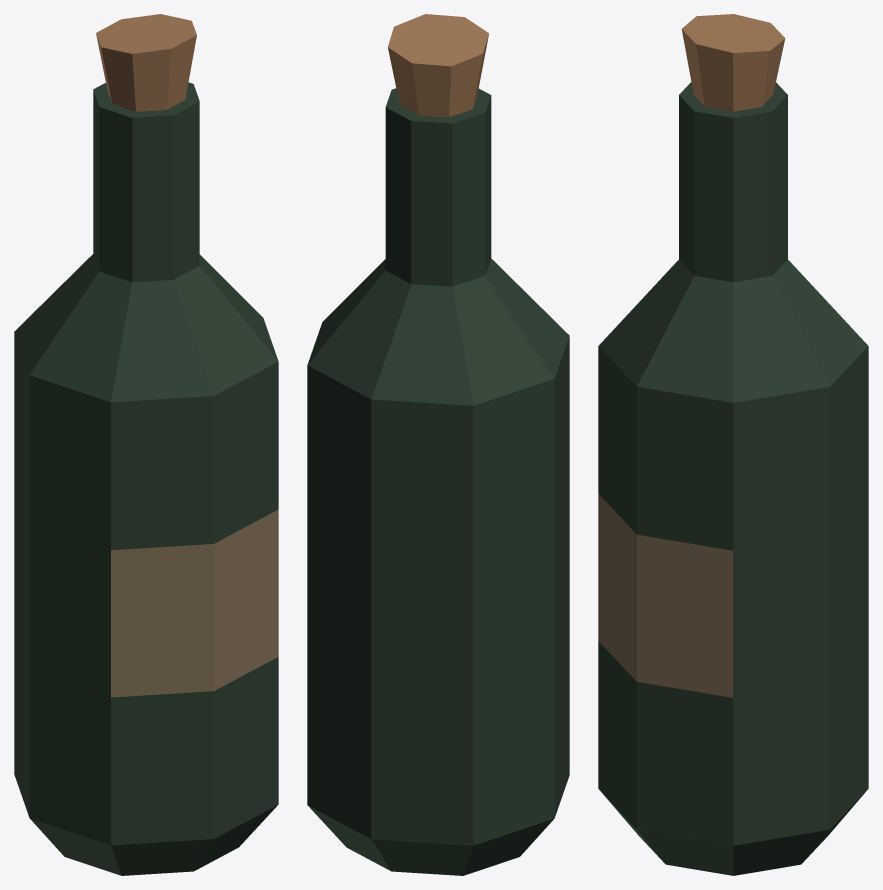
The model's file is SM_Item_Wine_02.gltf.
The picture shows the model from 3 angles, left to right: view 1: azimuth 30°, elevation 25°; view 2: azimuth 150°, elevation 25°; view 3: azimuth 270°, elevation 25°; orthographic projection.
Parts seen in each view (by area): view 1: SM_Item_Wine_02; view 2: SM_Item_Wine_02; view 3: SM_Item_Wine_02.
Boxes of the visible parts, x1=… form: SM_Item_Wine_02: x1=14, y1=14, x2=278, y2=875; SM_Item_Wine_02: x1=307, y1=14, x2=569, y2=875; SM_Item_Wine_02: x1=598, y1=14, x2=868, y2=875.
Size of the model in its own units: 0.1437 by 0.4741 by 0.1437.
Materials: 1 (1 with a texture image).
